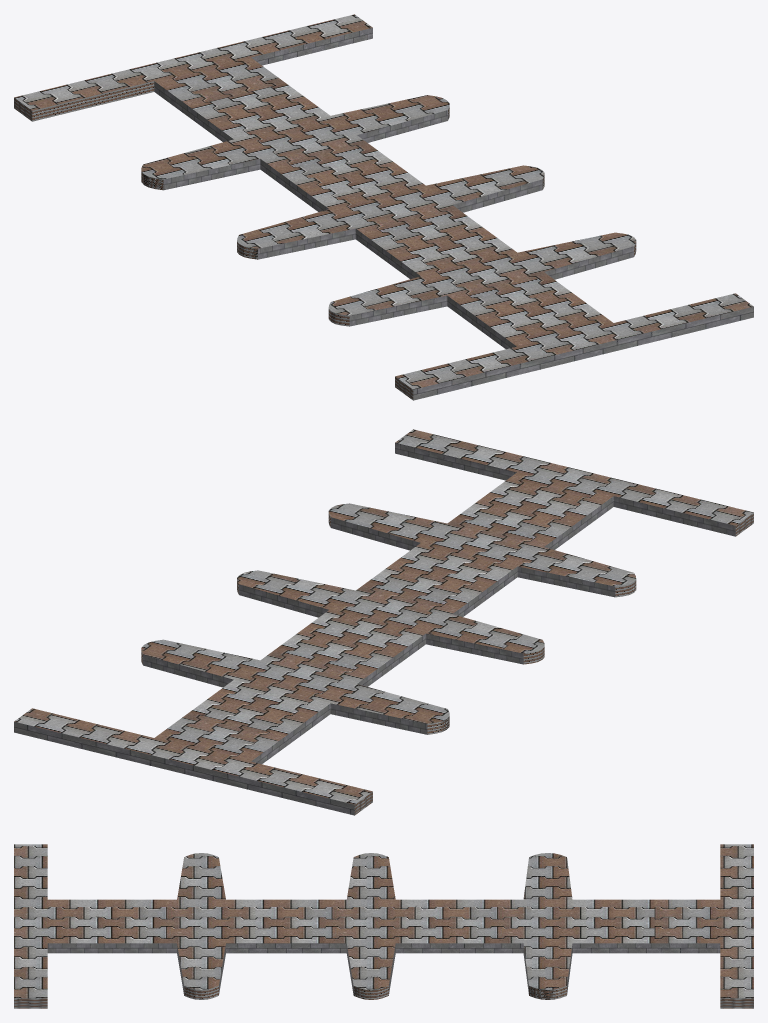
The model's file is parking_lot_4.fbx.
3 views of the same model, one above another, from view 1: azimuth 30°, elevation 25°; view 2: azimuth 150°, elevation 25°; view 3: azimuth 270°, elevation 25° (orthographic). The views are drawn at different scales.
Visible parts, largest first — view 1: parking_lot_4; view 2: parking_lot_4; view 3: parking_lot_4.
Boxes of the visible parts, box(x1,y1,x2,y2) form: parking_lot_4: box(14, 14, 753, 400); parking_lot_4: box(14, 429, 753, 815); parking_lot_4: box(14, 844, 753, 1008).
Size of the model in its own units: 85.69 by 2.62 by 174.
